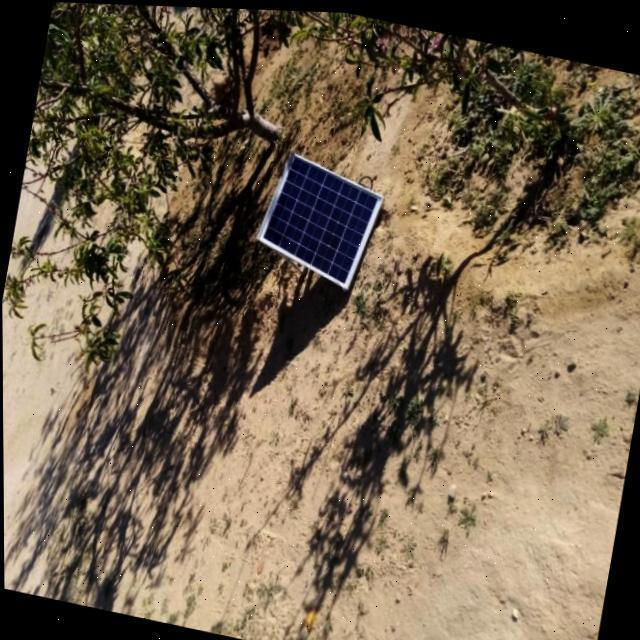Normal Solar Panel: (250, 144, 386, 292)
